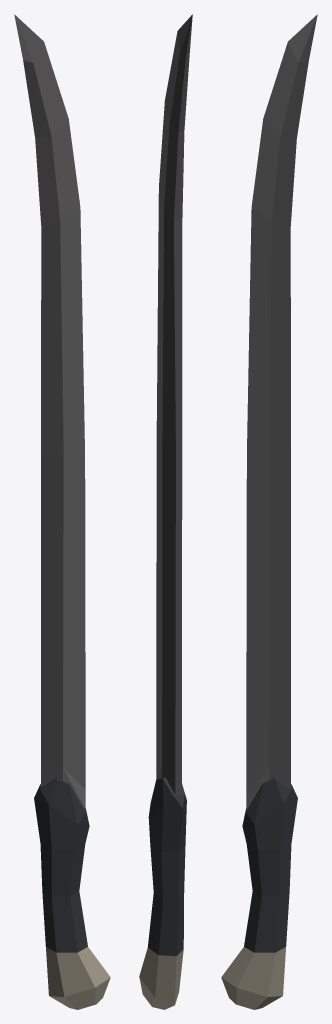
Rendered from SM_Wep_Sword_01.fbx.
3 views of the same model, side by side, from view 1: azimuth 90°, elevation 25°; view 2: azimuth 210°, elevation 25°; view 3: azimuth 270°, elevation 25° (orthographic). The views are drawn at different scales.
Visible parts, largest first — view 1: SM_Wep_Sword_01; view 2: SM_Wep_Sword_01; view 3: SM_Wep_Sword_01.
Part boxes in pixels (x1,y1,x2,y2): SM_Wep_Sword_01: (14,14,110,1009); SM_Wep_Sword_01: (139,14,192,1009); SM_Wep_Sword_01: (221,14,317,1009).
Bounding box in the file's own units: 4.12 × 159 × 14.
